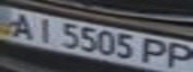0: (93, 28, 118, 57)
5: (115, 30, 142, 61), (54, 20, 81, 51), (75, 25, 100, 54)
A: (3, 9, 39, 39)
I: (27, 15, 60, 45)
P: (139, 37, 175, 66), (163, 41, 193, 71)
